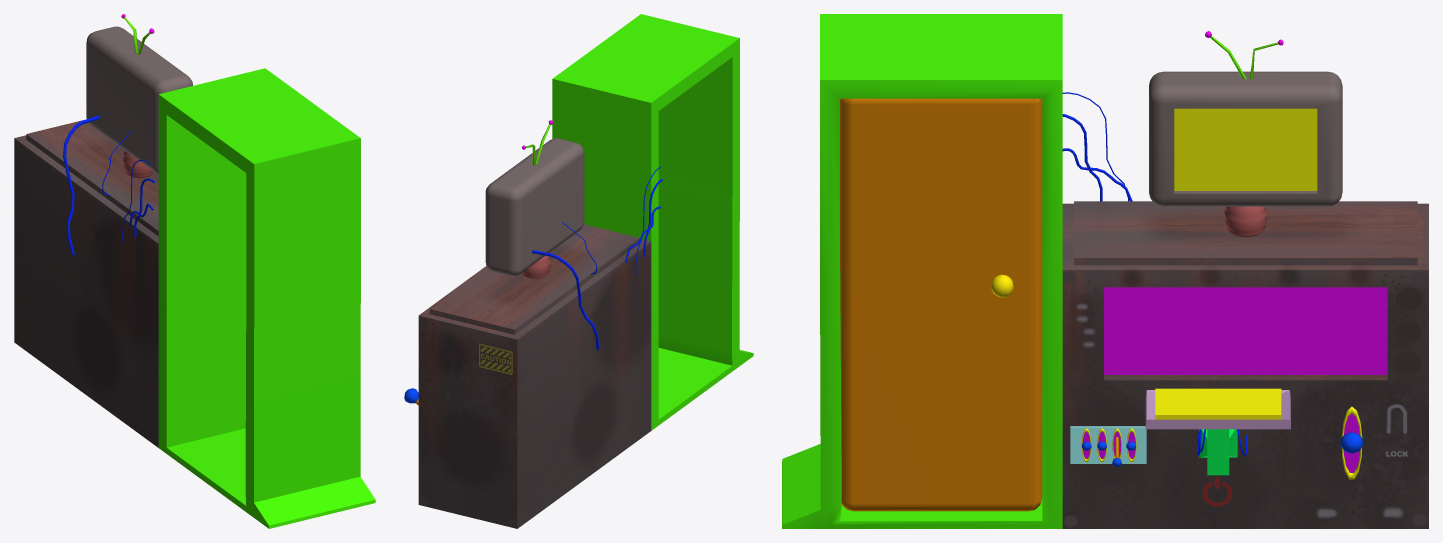
Rendered from finalMachine4.fbx.
3 views of the same model, side by side, from view 1: azimuth 30°, elevation 25°; view 2: azimuth 150°, elevation 25°; view 3: azimuth 270°, elevation 25° (orthographic). The views are drawn at different scales.
Parts seen in each view (by area): view 1: machineBase1, monitor, wire8, monitorSpring; view 2: machineBase1, monitor, wire8, monitorSpring; view 3: machineBase1, door1, monitor, leverPanel1, monitorSpring.
Boxes of the visible parts, <box> form: machineBase1: <box>14,68,375,528</box>; monitor: <box>86,26,192,174</box>; wire8: <box>63,115,99,255</box>; monitorSpring: <box>122,151,154,177</box>; machineBase1: <box>418,14,753,528</box>; monitor: <box>485,138,584,276</box>; wire8: <box>532,250,599,349</box>; monitorSpring: <box>521,255,550,278</box>; machineBase1: <box>782,14,1428,528</box>; door1: <box>840,98,1042,511</box>; monitor: <box>1149,71,1342,206</box>; leverPanel1: <box>1070,426,1146,463</box>; monitorSpring: <box>1224,206,1267,236</box>.
Bounding box in the file's own units: 9.75 × 19.79 × 25.07.
